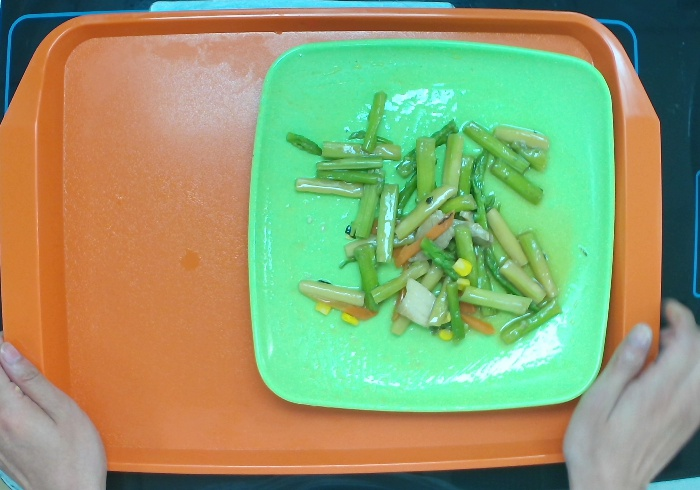ZNLD-Lv_Fang_Pan: (245, 35, 617, 418)
